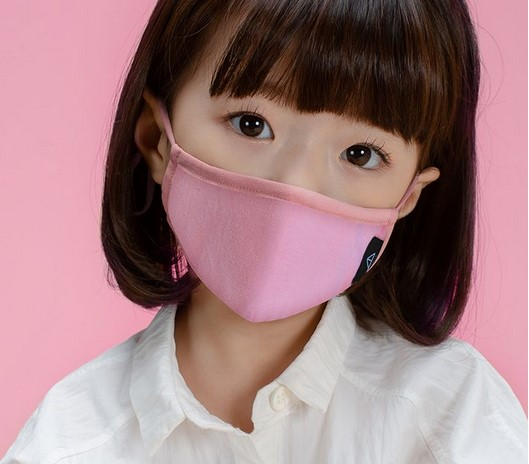face_with_mask: (136, 6, 475, 326)
